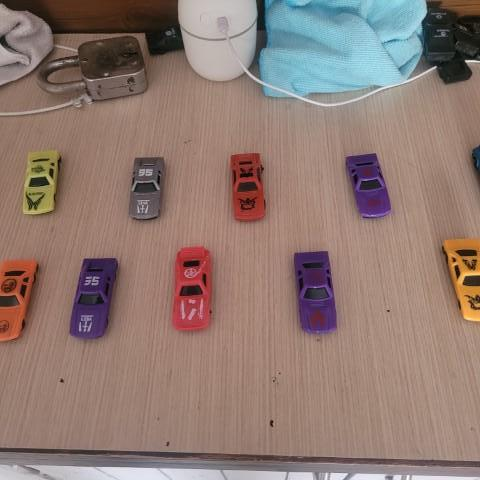car: (289, 247, 341, 335), (68, 255, 118, 342), (340, 150, 393, 219), (172, 244, 214, 331), (20, 148, 62, 219), (229, 148, 268, 223), (127, 153, 166, 224)
